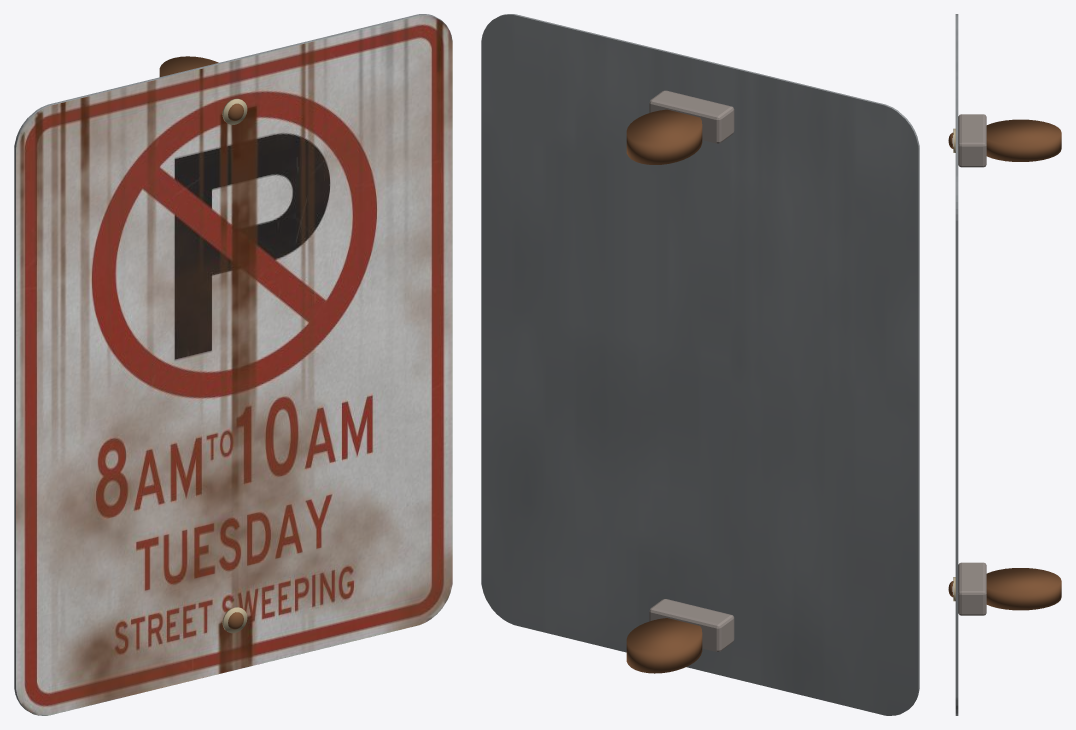
Rendered from streetCleaning-v1-rusty.glb.
The picture shows the model from 3 angles, left to right: view 1: azimuth 30°, elevation 25°; view 2: azimuth 150°, elevation 25°; view 3: azimuth 270°, elevation 25°; orthographic projection. The views are drawn at different scales.
Parts seen in each view (by area): view 1: streetCleaning-v1-rusty; view 2: streetCleaning-v1-rusty; view 3: streetCleaning-v1-rusty.
Boxes of the visible parts, x1,y1,x2,y2 form: streetCleaning-v1-rusty: (14, 14, 452, 715); streetCleaning-v1-rusty: (481, 14, 919, 715); streetCleaning-v1-rusty: (948, 14, 1061, 715).
Bounding box in the file's own units: 0.3429 × 0.4572 × 0.0871.
Materials: 1 (1 with a texture image).
